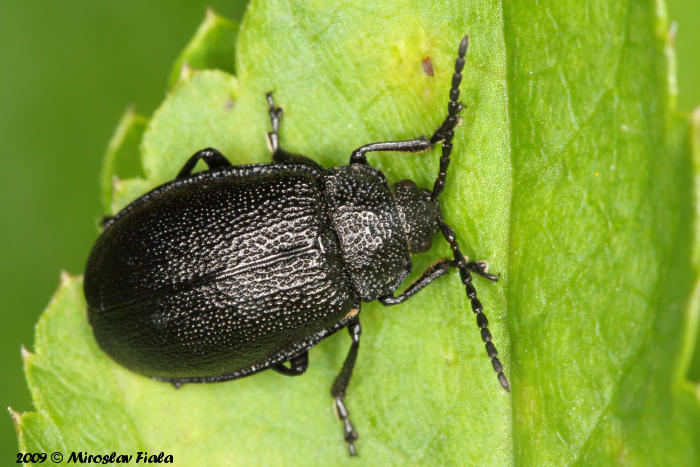Galeruca_tanaceti: (77, 32, 517, 458)
